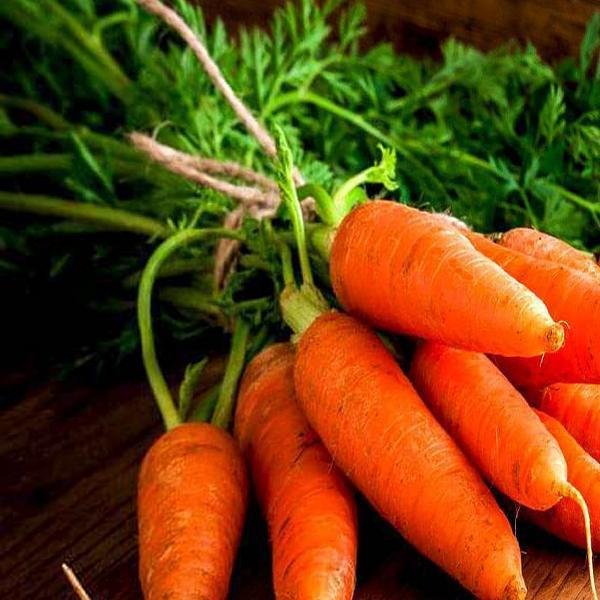carrot: (118, 201, 591, 592), (339, 196, 600, 563), (279, 285, 543, 600), (238, 353, 360, 597), (138, 424, 246, 600)
